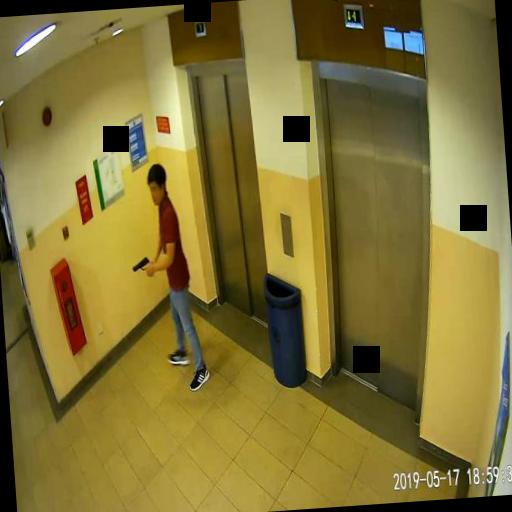Handgun: (131, 256, 149, 276)
